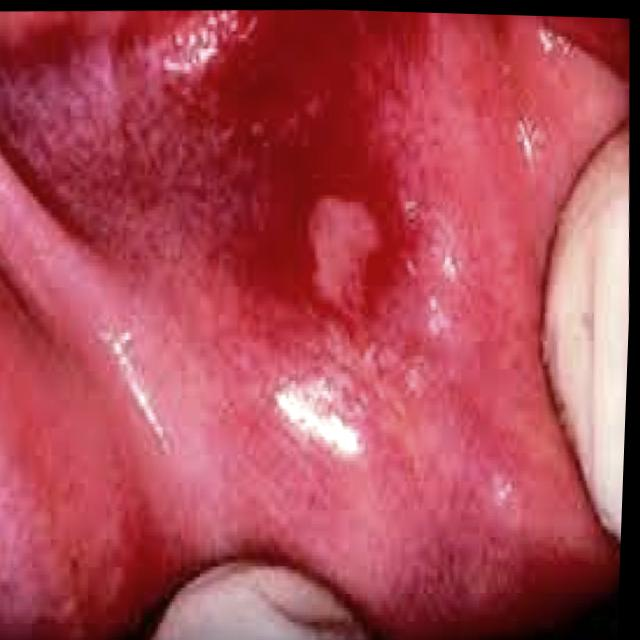ulcer: (310, 198, 382, 310)
